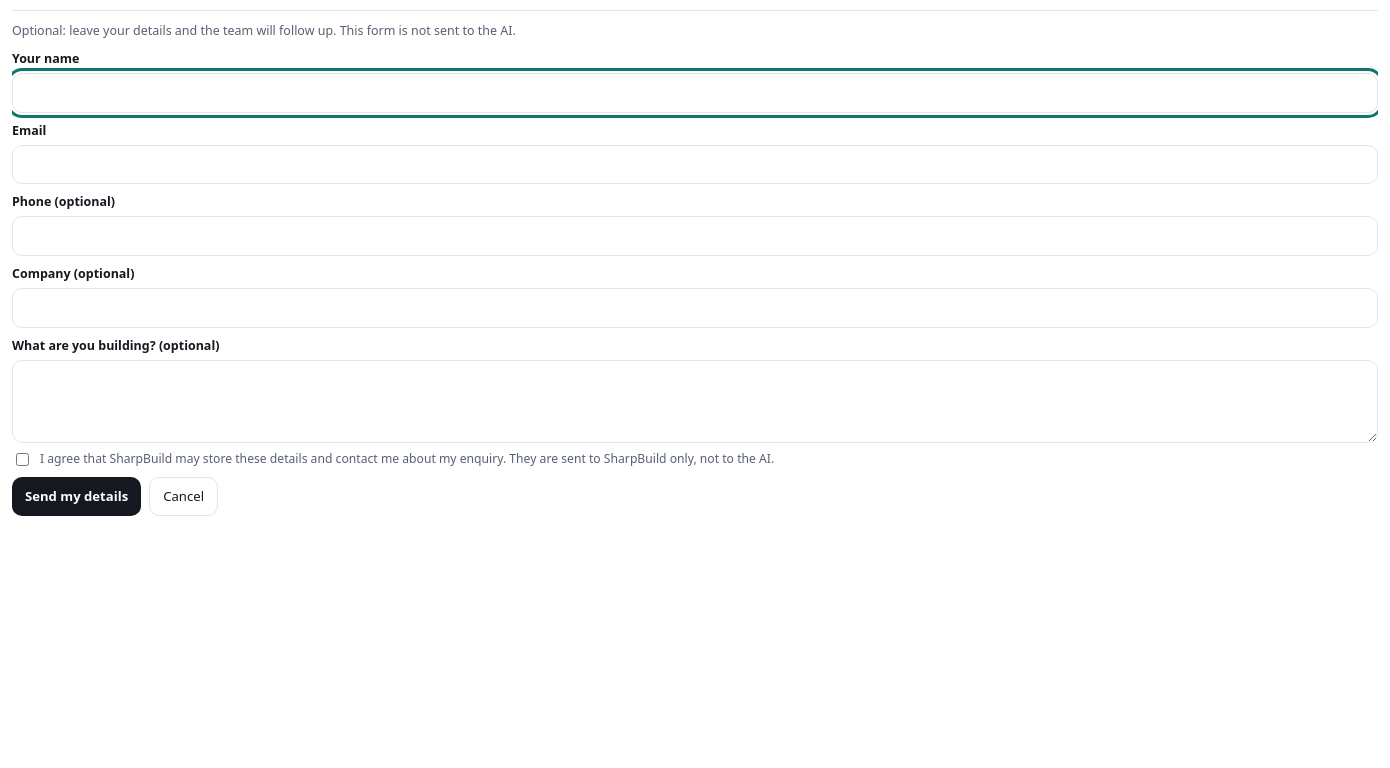
Test: LeadForm › shows a friendly error and keeps the form when saving fails
Type "Ali Khan" into the field labelled "Your name" at coordinates (695, 93), box [12,73,1378,113]
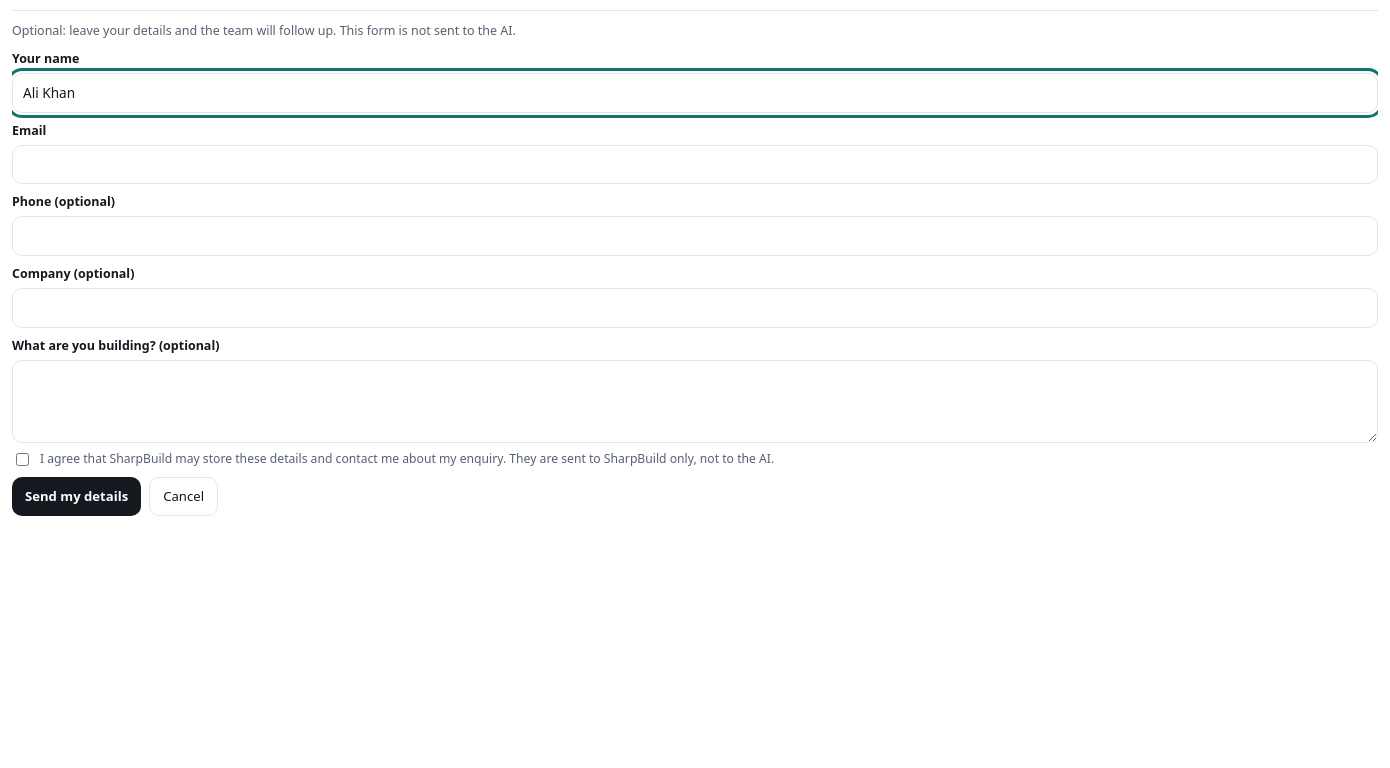
Type "ali@example.com" into the field labelled "Email" at coordinates (695, 165), box [12,145,1378,184]
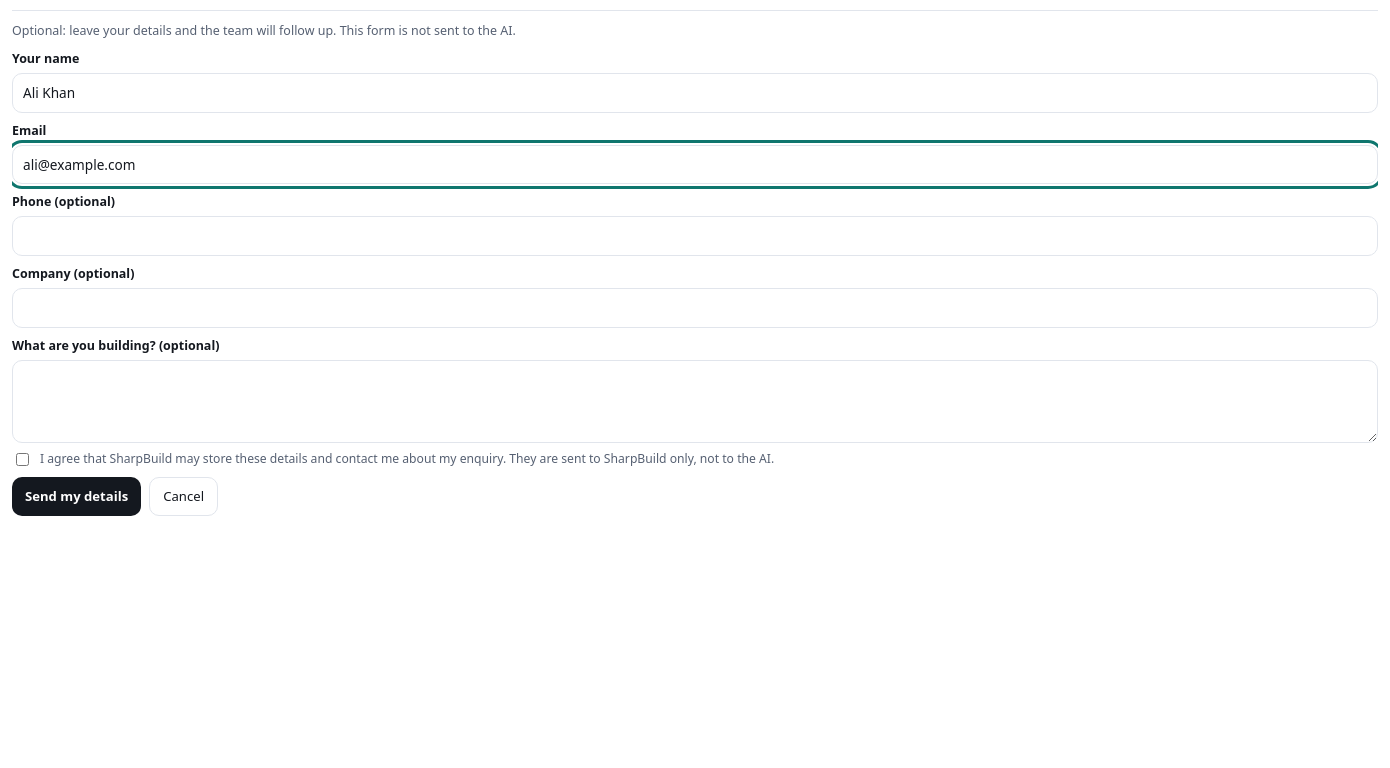
Click the checkbox at coordinates (22, 460), box [16,453,29,466]
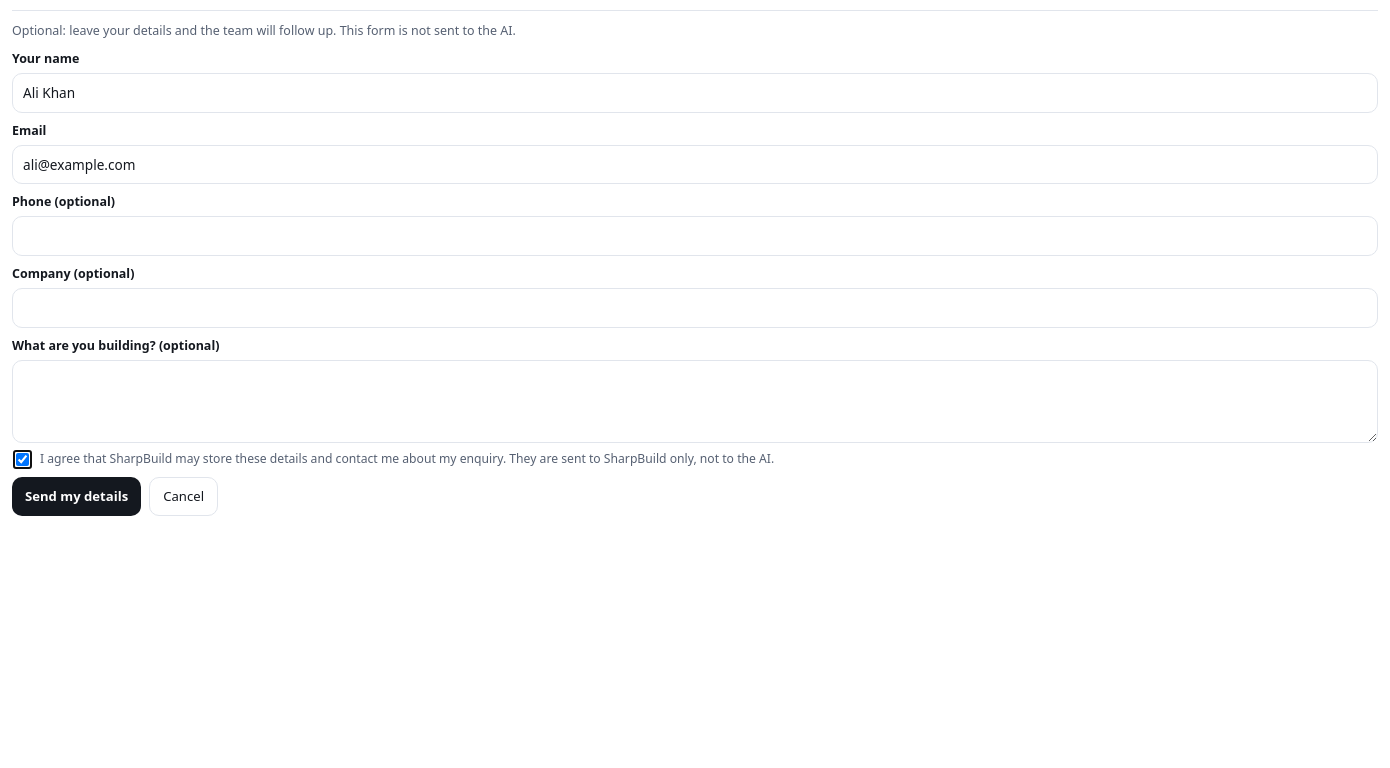
Click the button "Send my details" at coordinates (77, 497), box [12,477,141,516]
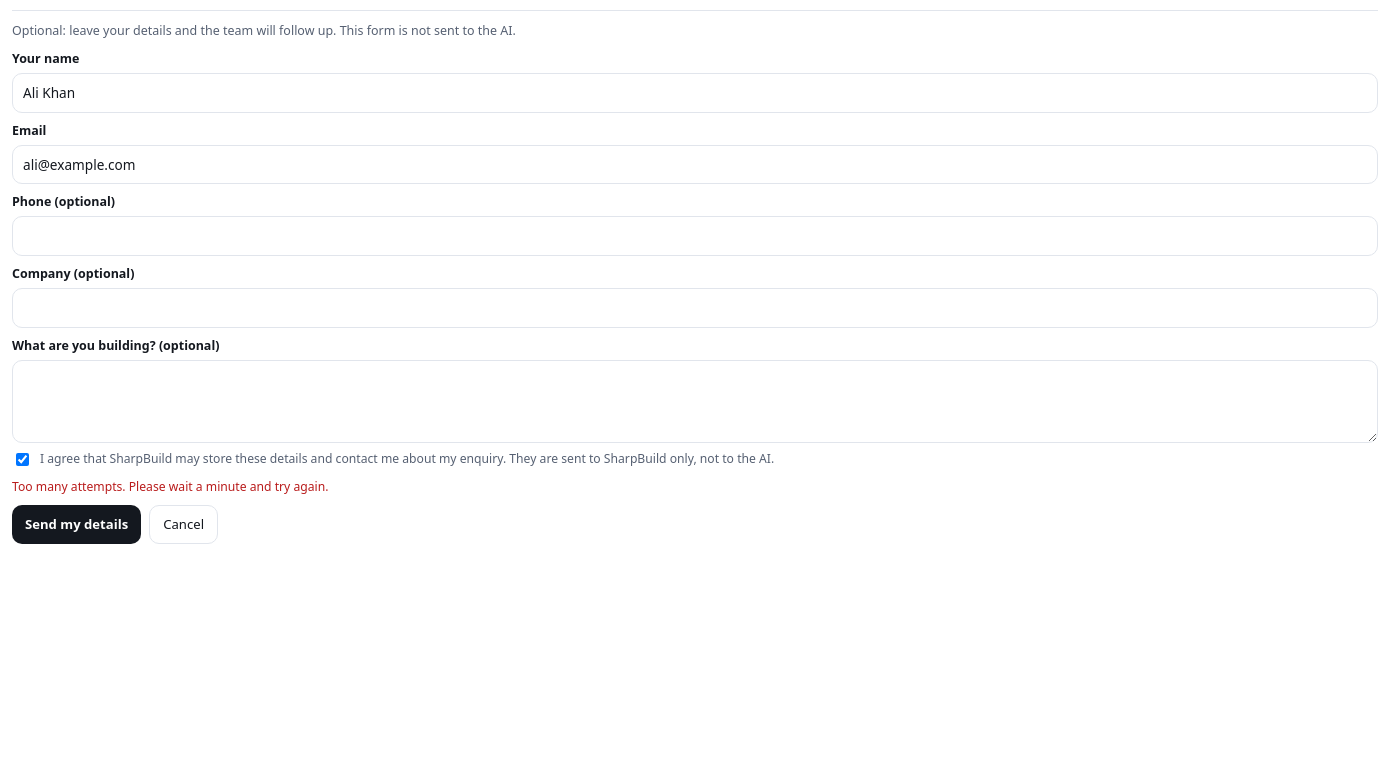
Check: the button "Send my details" is enabled, box [12,504,141,544]
Check: the text "Too many attempts. Please wait a minute and try again." is shown, box [12,478,328,495]
